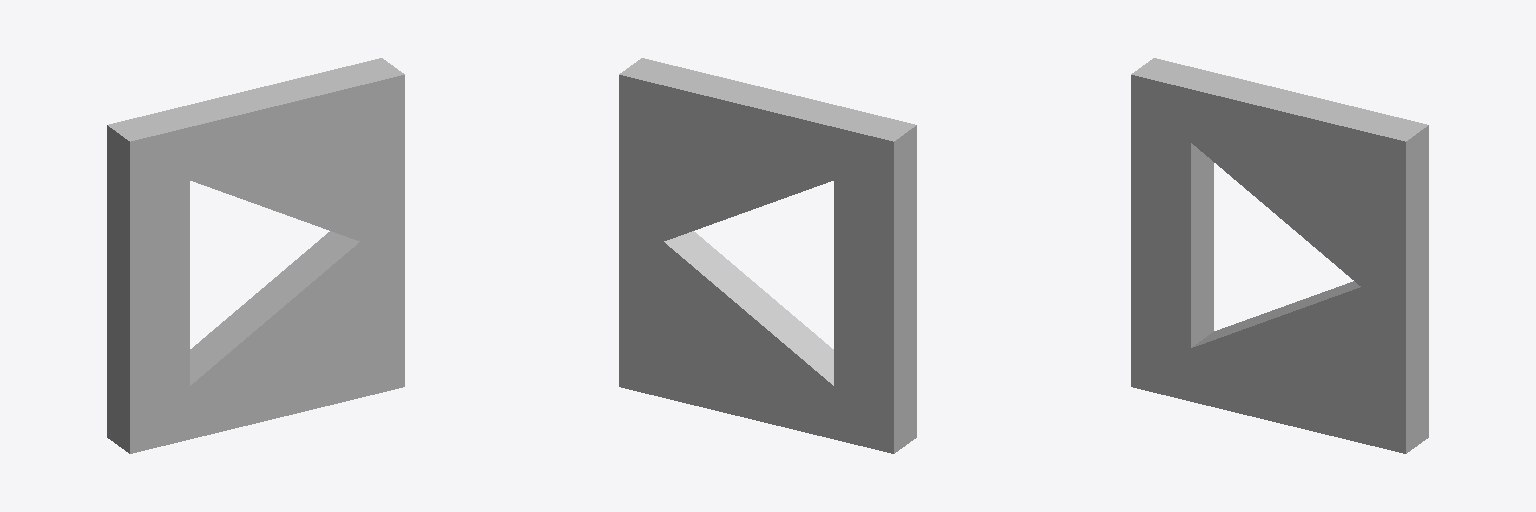
The model's file is small_red_triangle_hole.obj.
3 renders of one model, left to right at view 1: azimuth 30°, elevation 25°; view 2: azimuth 150°, elevation 25°; view 3: azimuth 330°, elevation 25°, orthographic.
Size of the model in its own units: 0.0691 by 0.075 by 0.01.